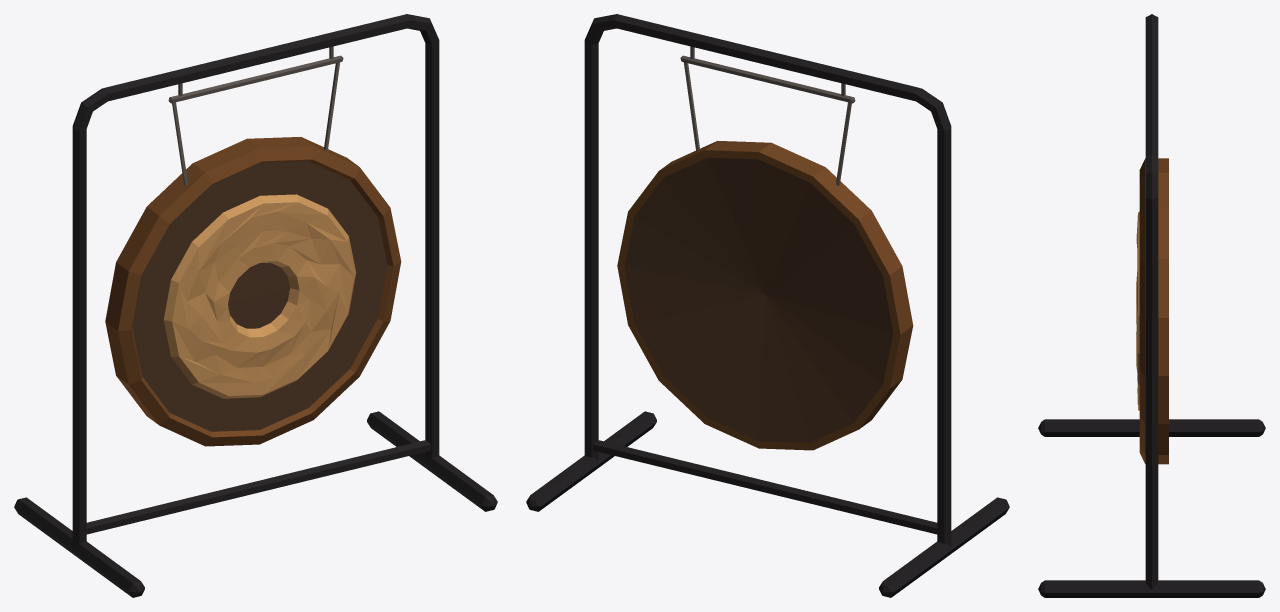
Rendered from tam-tam-gong-dd318c.glb.
3 renders of one model, left to right at view 1: azimuth 30°, elevation 25°; view 2: azimuth 150°, elevation 25°; view 3: azimuth 270°, elevation 25°, orthographic. The views are drawn at different scales.
Visible parts, largest first — view 1: gong-mesh, frame, gong-cords; view 2: gong-mesh, frame, gong-cords; view 3: frame, gong-mesh.
Boxes of the visible parts, x1,y1,x2,y2 form: gong-mesh: [105, 46, 401, 446]; frame: [14, 14, 497, 597]; gong-cords: [172, 62, 339, 186]; gong-mesh: [617, 46, 913, 450]; frame: [526, 14, 1009, 597]; gong-cords: [684, 62, 851, 186]; frame: [1038, 14, 1265, 597]; gong-mesh: [1136, 158, 1168, 464].
Size of the model in its own units: 1.17 by 1.4 by 0.67.
